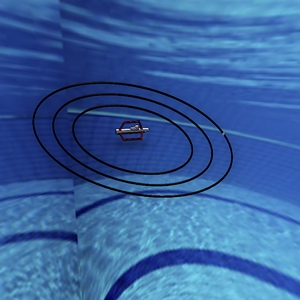circle: (24, 69, 239, 212)
submarine: (110, 119, 157, 160)
